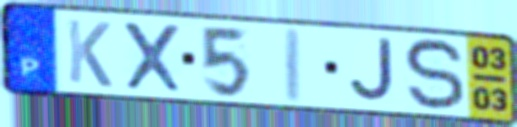5: (198, 24, 255, 100)
I: (281, 25, 305, 106)
J: (346, 36, 398, 106)
K: (64, 16, 115, 90)
S: (401, 36, 469, 114)
X: (119, 18, 187, 95)
